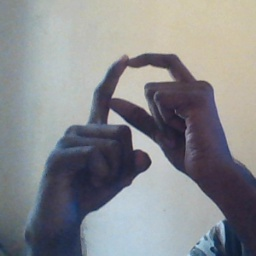D: (67, 44, 208, 173)
